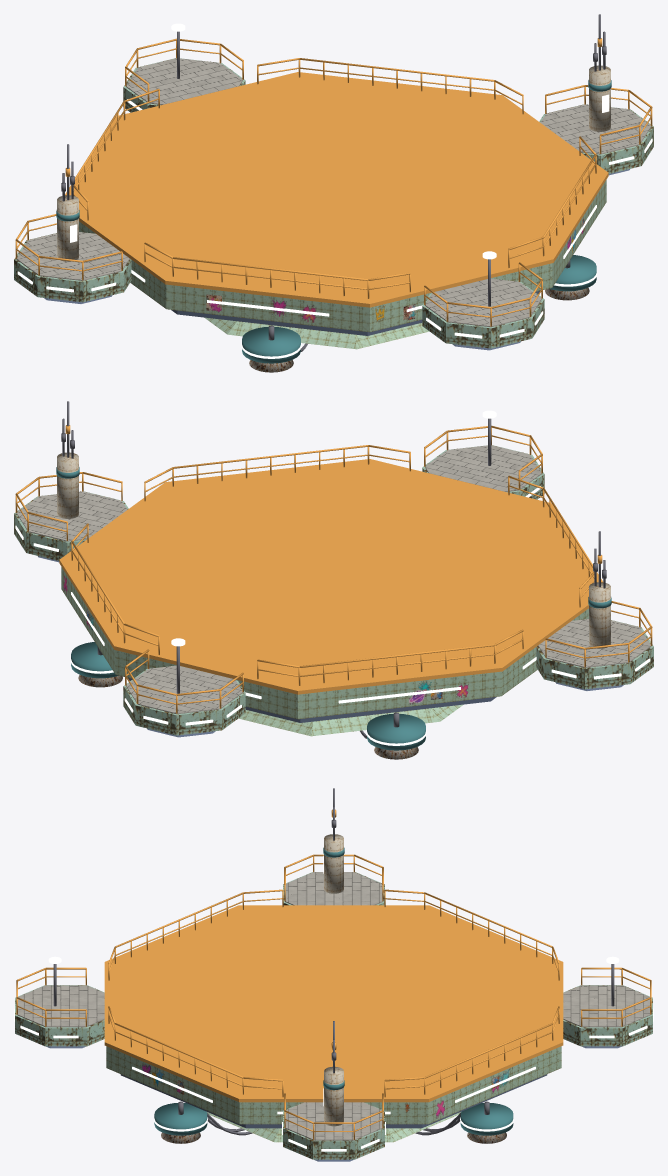
Rendered from SkatePlatform.glb.
The picture shows the model from 3 angles, top to bottom: view 1: azimuth 30°, elevation 25°; view 2: azimuth 150°, elevation 25°; view 3: azimuth 270°, elevation 25°; orthographic projection. The views are drawn at different scales.
Visible parts, largest first — view 1: Deck_Edge, Deck_Top.001, Deck.001, WingPX, Deck_Neon0, SPPaint_0, Hub_Thruster.001; view 2: Deck_Edge, Deck.001, Deck_Top.001, WingPX, Deck_Neon0, Hub_Thruster.001, SPPaint_0; view 3: Deck_Edge, Deck_Top.001, Deck.001, WingPX, Deck_Neon0, Hub_Thruster.001, SPPaint_0.
Part boxes in pixels (x1,y1,x2,y2): Deck_Edge: [15, 14, 652, 363]; Deck_Top.001: [16, 58, 651, 327]; Deck.001: [57, 65, 610, 349]; WingPX: [14, 58, 653, 348]; Deck_Neon0: [17, 94, 652, 358]; SPPaint_0: [206, 218, 584, 322]; Hub_Thruster.001: [249, 288, 589, 372]; Deck_Edge: [15, 401, 652, 750]; Deck.001: [57, 452, 610, 736]; Deck_Top.001: [16, 445, 651, 714]; WingPX: [14, 445, 653, 735]; Deck_Neon0: [15, 486, 650, 745]; Hub_Thruster.001: [78, 675, 418, 759]; SPPaint_0: [63, 575, 468, 704]; Deck_Edge: [16, 788, 651, 1161]; Deck_Top.001: [17, 872, 650, 1140]; Deck.001: [106, 834, 561, 1142]; WingPX: [15, 872, 652, 1159]; Deck_Neon0: [14, 855, 653, 1151]; Hub_Thruster.001: [161, 1132, 506, 1143]; SPPaint_0: [142, 1063, 509, 1118].
Size of the model in its own units: 35.12 by 12.79 by 35.12.
Materials: 8 (5 with a texture image).
